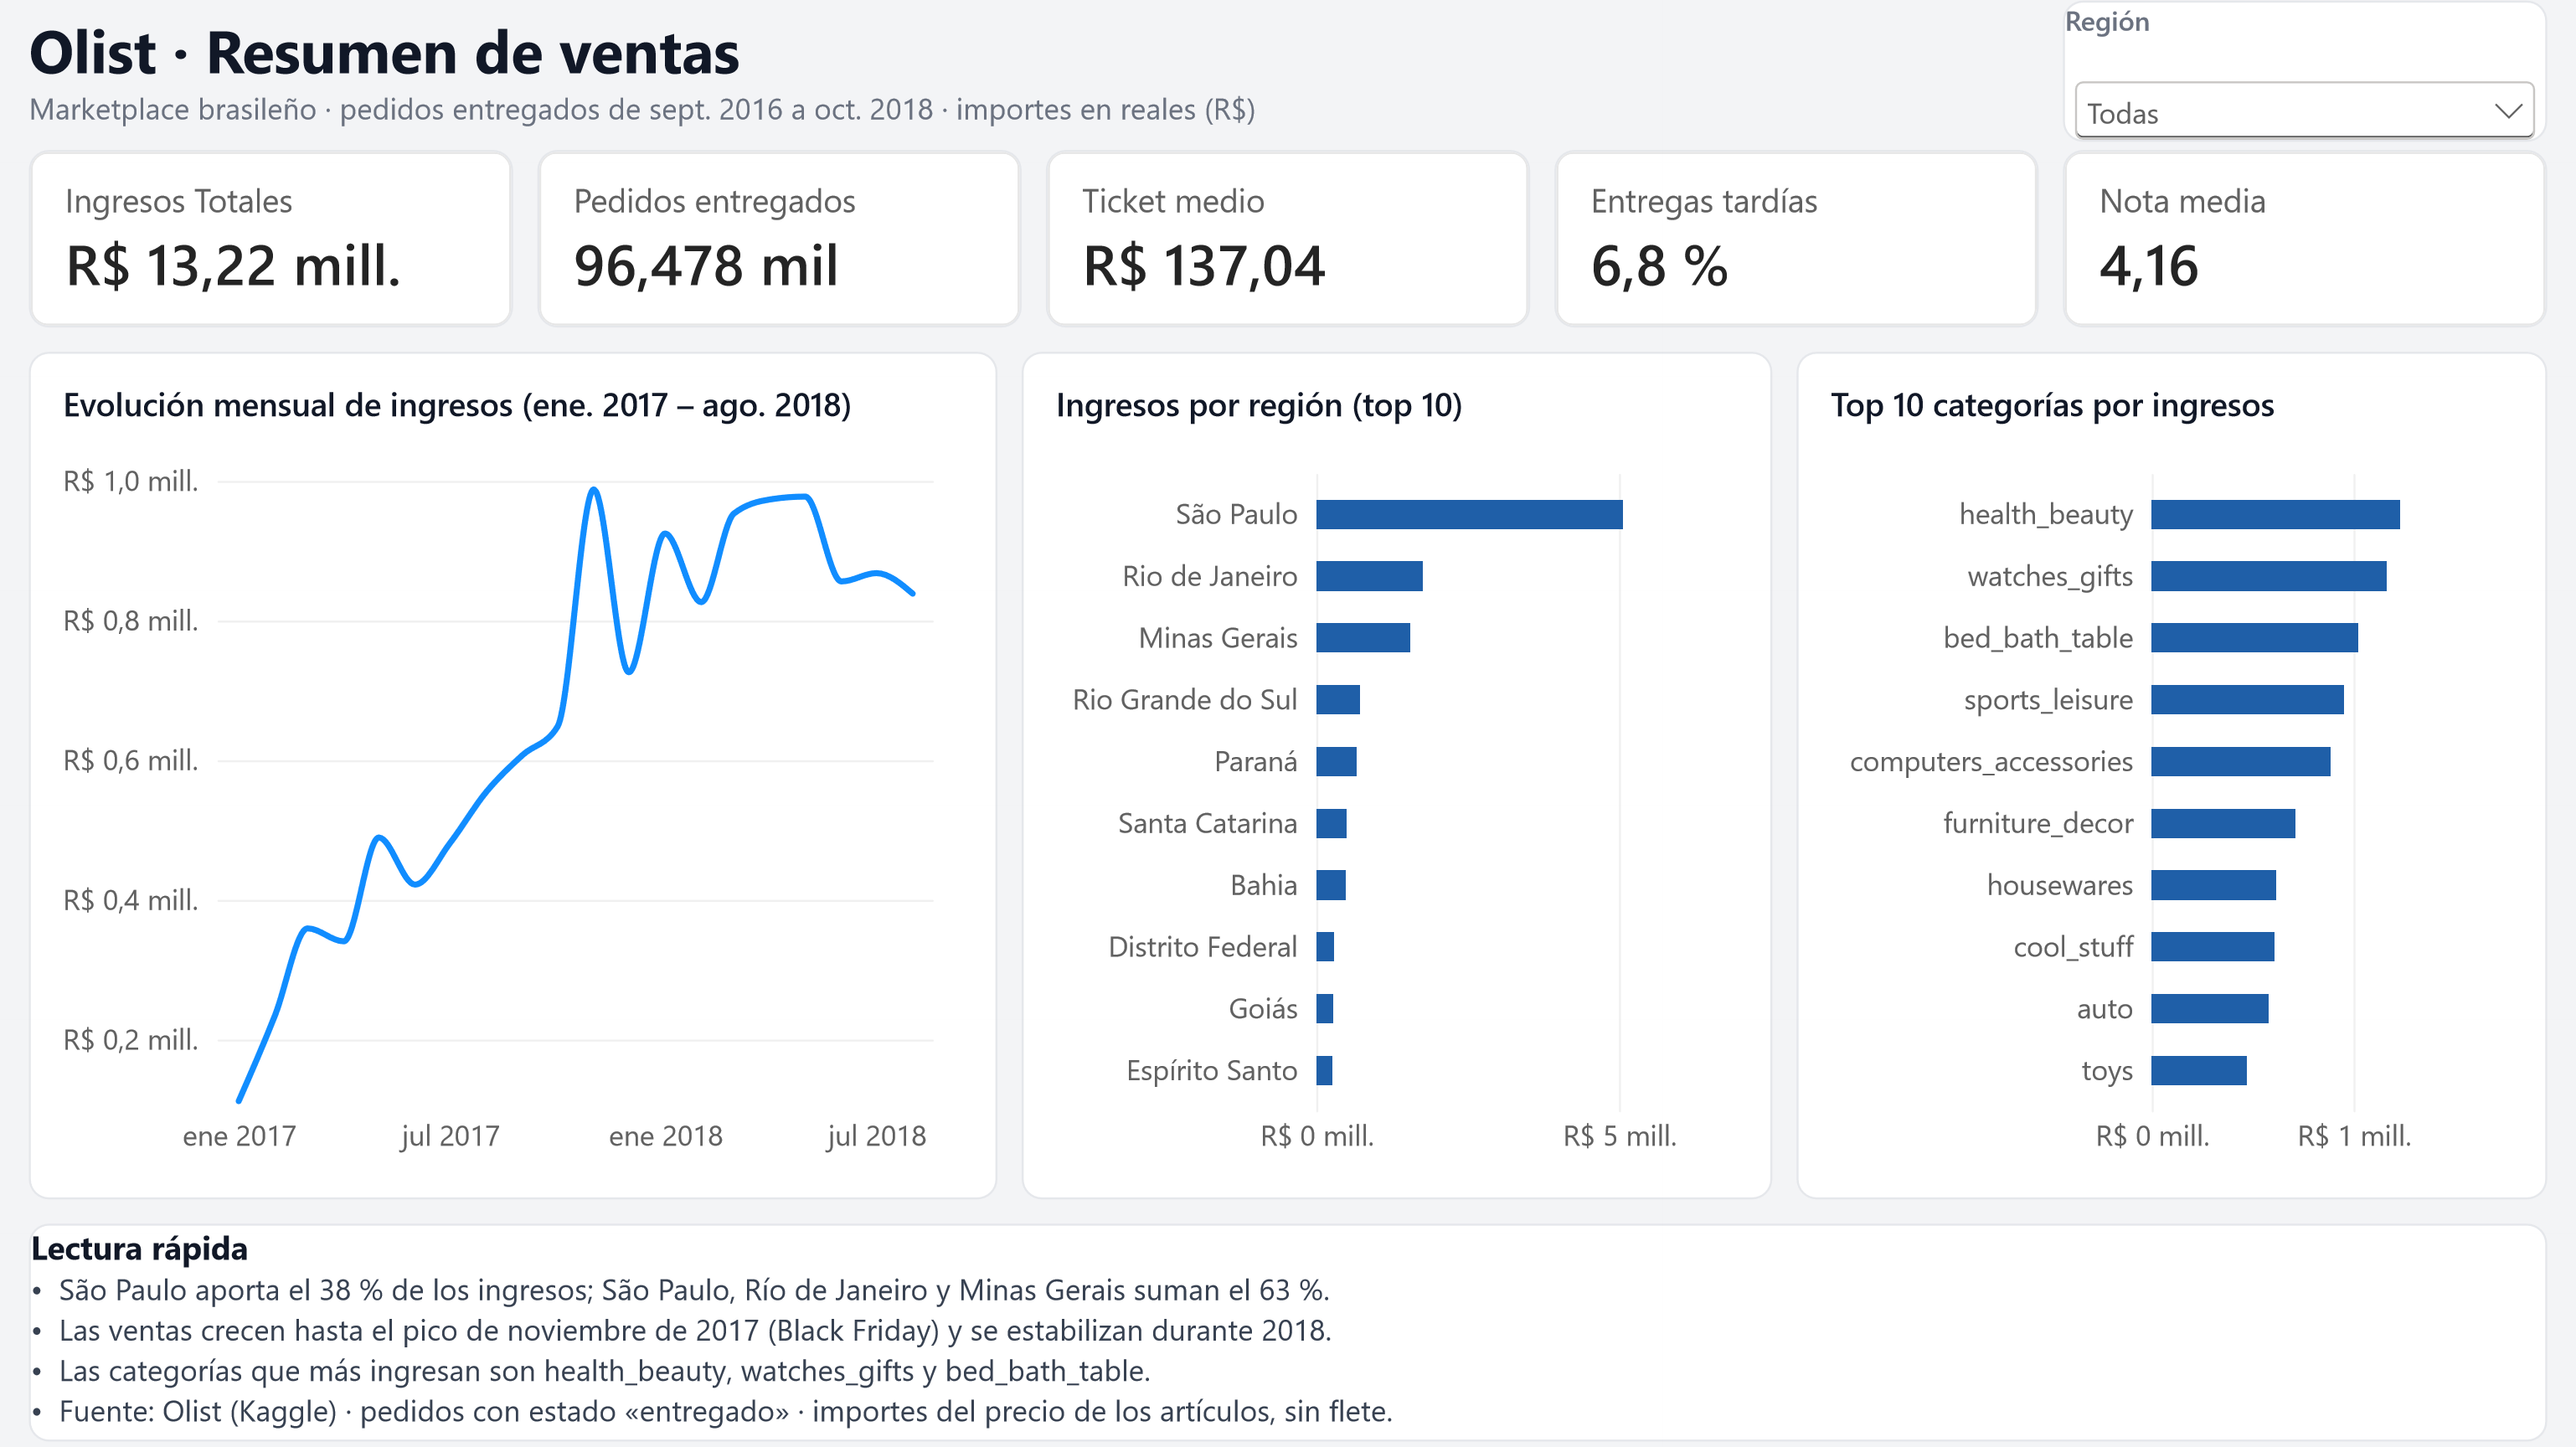

This screenshot's page, from the dashboard's own definition file:
{"tool":"powerbi","page":{"name":"Resumen de ventas","canvas":[1280,720],"ordinal":0},"visuals":[{"type":"cardVisual","fields":{"Data":["Pedidos.Ingresos_totales"]},"box":[16,76,240,88],"z":0},{"type":"cardVisual","fields":{"Data":["Pedidos.Entregas tardías"]},"box":[772,76,240,88],"z":1000},{"type":"cardVisual","fields":{"Data":["Pedidos.Ticket medio"]},"box":[520,76,240,88],"z":2000},{"type":"cardVisual","fields":{"Data":["Pedidos.Nota media"]},"box":[1024,76,240,88],"z":3000},{"type":"cardVisual","fields":{"Data":["Pedidos.Pedidos entregados"]},"box":[268,76,240,88],"z":4000},{"type":"lineChart","title":"Evolución mensual de ingresos (ene. 2017 – ago. 2018)","fields":{"Category":["Pedidos.mes_compra"],"Y":["Pedidos.Ingresos_totales"]},"box":[16,176,480,420],"z":5000},{"type":"clusteredBarChart","title":"Ingresos por región (top 10)","fields":{"Category":["Pedidos.estado_nombre"],"Y":["Pedidos.Ingresos Totales"]},"box":[508,176,372,420],"z":6000},{"type":"clusteredBarChart","title":"Top 10 categorías por ingresos","fields":{"Category":["Items.categoria"],"Y":["Items.Ingresos artículos"]},"box":[892,176,372,420],"z":7000},{"type":"textbox","box":[16,6,980,60],"z":9000},{"type":"textbox","box":[16,608,1248,108],"z":9100},{"type":"slicer","title":"Región","fields":{"Values":["Pedidos.estado_nombre"]},"box":[1024,2,240,70],"z":9200}]}

Visuals, with their boxes in screenshot pixels (x1, y1, x2, y2), scaled from the page's 1280x720 canvas onto the 2576x1447 screenshot:
cardVisual - Pedidos.Ingresos_totales: locate(32, 152, 515, 330)
cardVisual - Pedidos.Entregas tardías: locate(1553, 152, 2037, 330)
cardVisual - Pedidos.Ticket medio: locate(1047, 152, 1529, 330)
cardVisual - Pedidos.Nota media: locate(2061, 152, 2544, 330)
cardVisual - Pedidos.Pedidos entregados: locate(539, 152, 1023, 330)
"Evolución mensual de ingresos (ene. 2017 – ago. 2018)" lineChart: locate(32, 353, 998, 1197)
"Ingresos por región (top 10)" clusteredBarChart: locate(1023, 353, 1771, 1197)
"Top 10 categorías por ingresos" clusteredBarChart: locate(1795, 353, 2544, 1197)
textbox: locate(32, 12, 2005, 132)
textbox: locate(32, 1222, 2544, 1439)
"Región" slicer: locate(2061, 4, 2544, 145)
